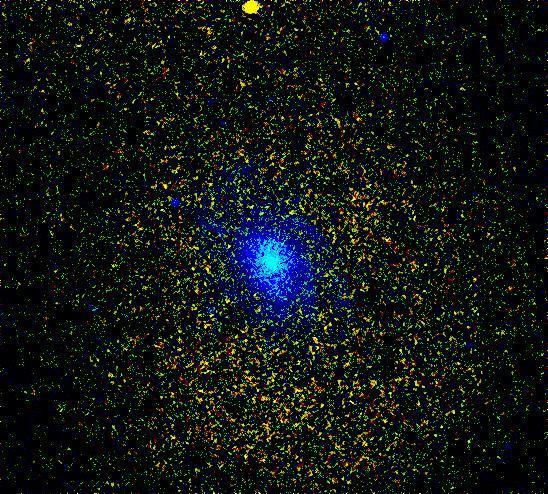star: (235, 0, 265, 24)
